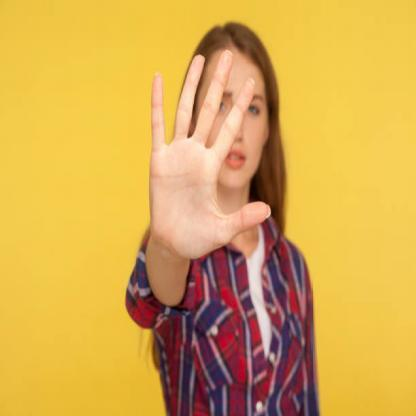stop: (145, 46, 274, 262)
